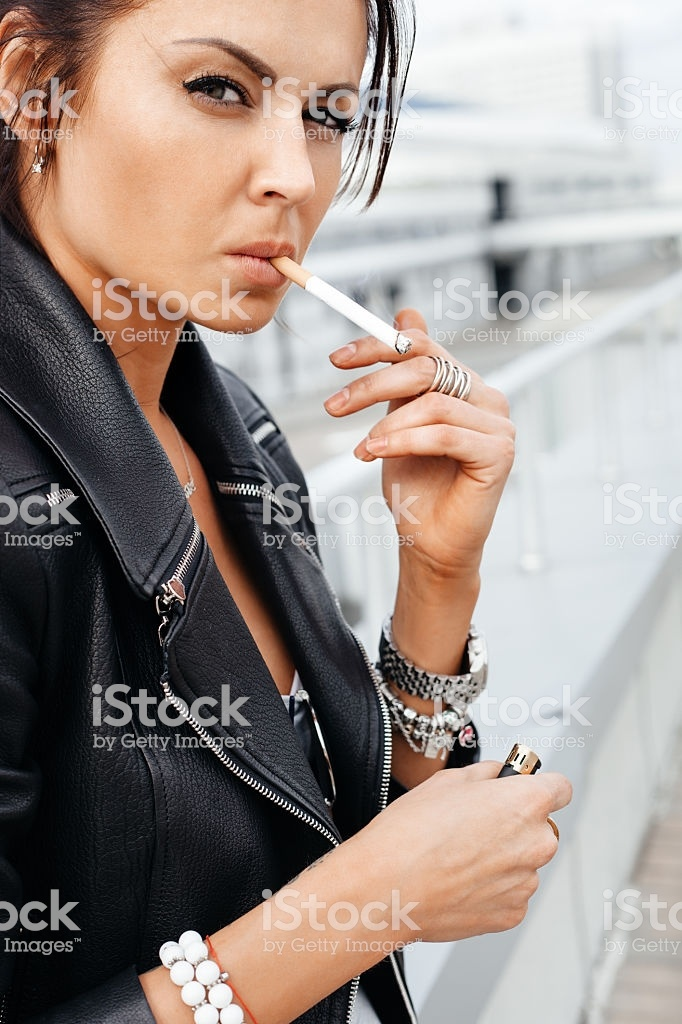sigaretta: (274, 249, 418, 361)
